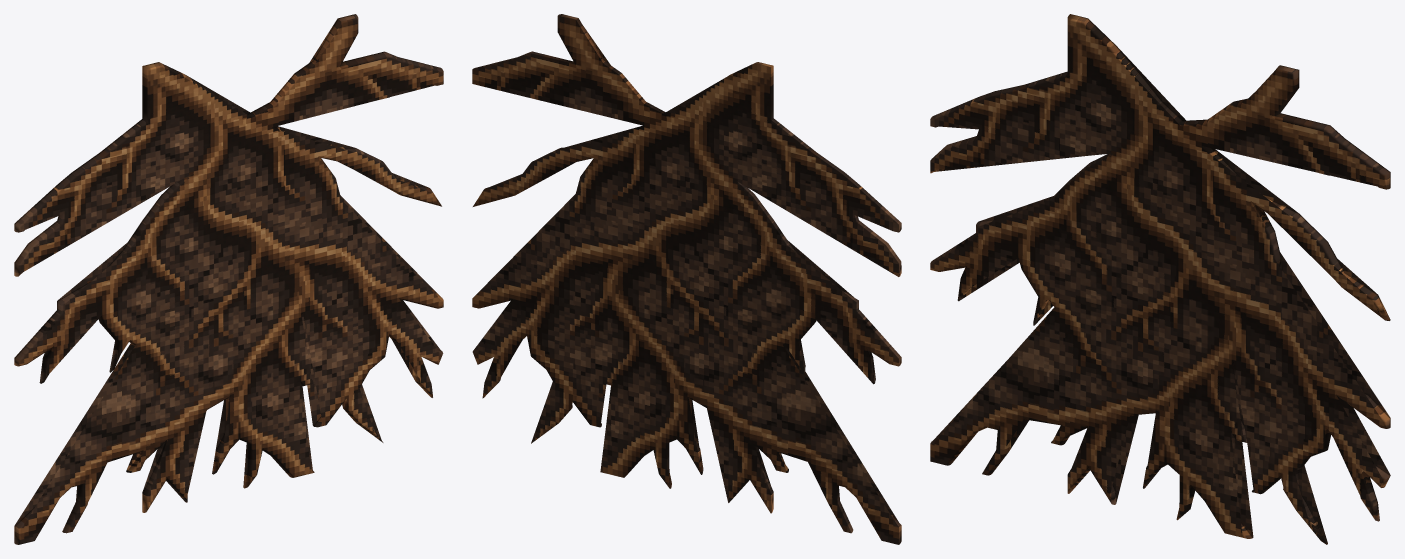
The model's file is Root_01_Invert.fbx.
The picture shows the model from 3 angles, left to right: view 1: azimuth 30°, elevation 25°; view 2: azimuth 150°, elevation 25°; view 3: azimuth 330°, elevation 25°; orthographic projection. The views are drawn at different scales.
Parts seen in each view (by area): view 1: Raices_Base_01_Invert; view 2: Raices_Base_01_Invert; view 3: Raices_Base_01_Invert.
Boxes of the visible parts, <box> form: Raices_Base_01_Invert: <box>14,14,443,544</box>; Raices_Base_01_Invert: <box>472,14,901,544</box>; Raices_Base_01_Invert: <box>930,14,1390,544</box>.
Bounding box in the file's own units: 196 × 196 × 3.36.
